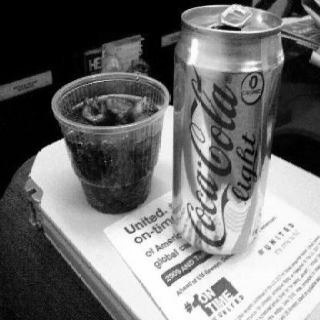alumunium_can: (175, 2, 286, 257)
